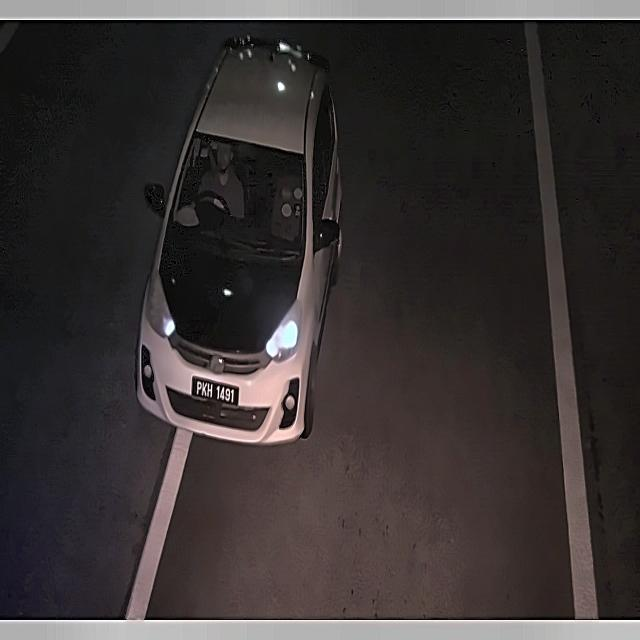car: (191, 371, 243, 413)
